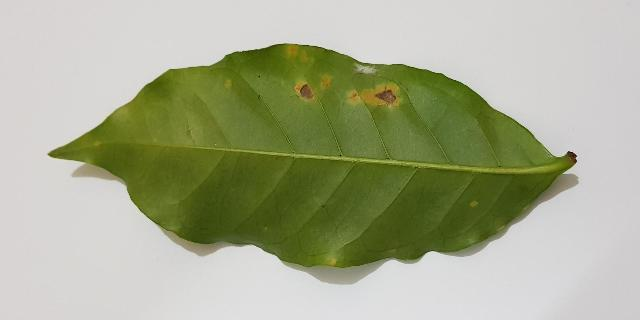miner: (346, 82, 402, 111), (290, 73, 332, 105), (286, 44, 309, 62), (224, 78, 233, 89), (327, 258, 336, 266), (471, 202, 477, 207)
